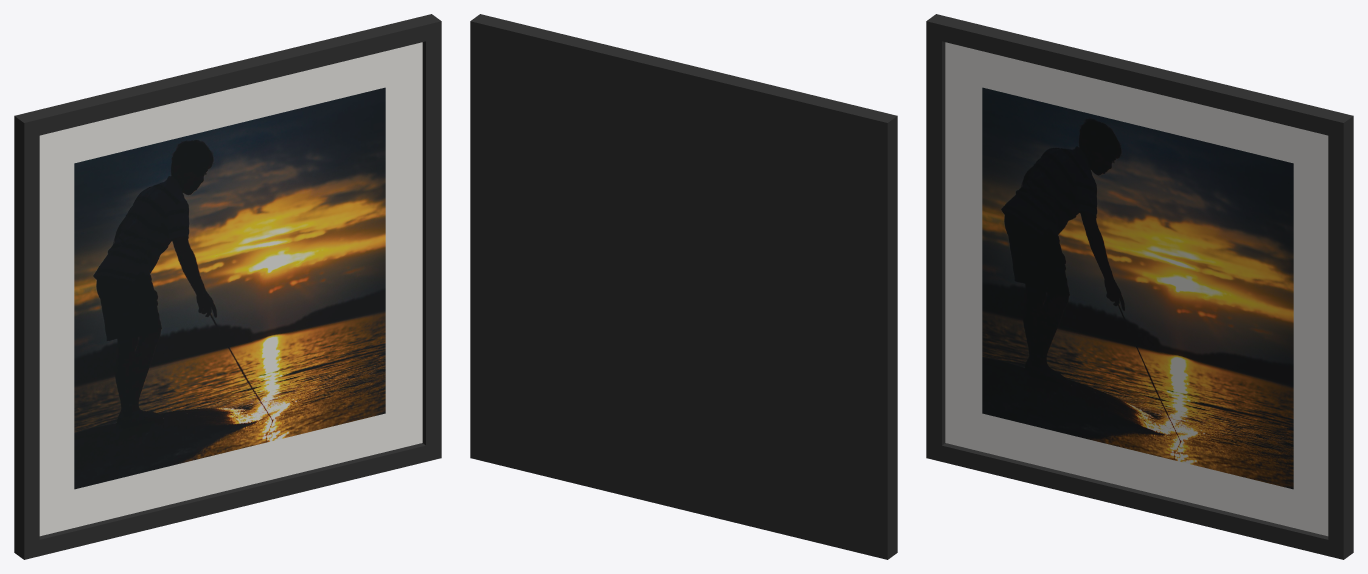
Rendered from pinnen-40.gltf.
The picture shows the model from 3 angles, left to right: view 1: azimuth 30°, elevation 25°; view 2: azimuth 150°, elevation 25°; view 3: azimuth 330°, elevation 25°; orthographic projection.
Visible parts, largest first — view 1: tavla; view 2: tavla; view 3: tavla.
Boxes of the visible parts, x1,y1,x2,y2 form: tavla: (14, 14, 441, 559); tavla: (470, 14, 897, 559); tavla: (926, 14, 1353, 559).
Size of the model in its own units: 0.536 by 0.536 by 0.022.
Materials: 3 (1 with a texture image).
